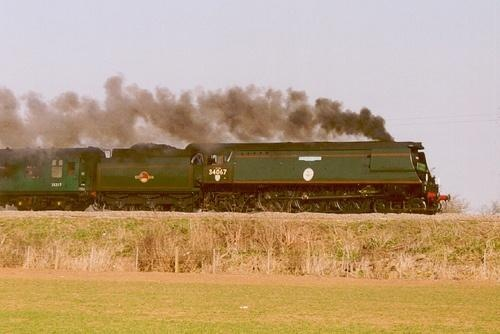train: (1, 140, 454, 213)
